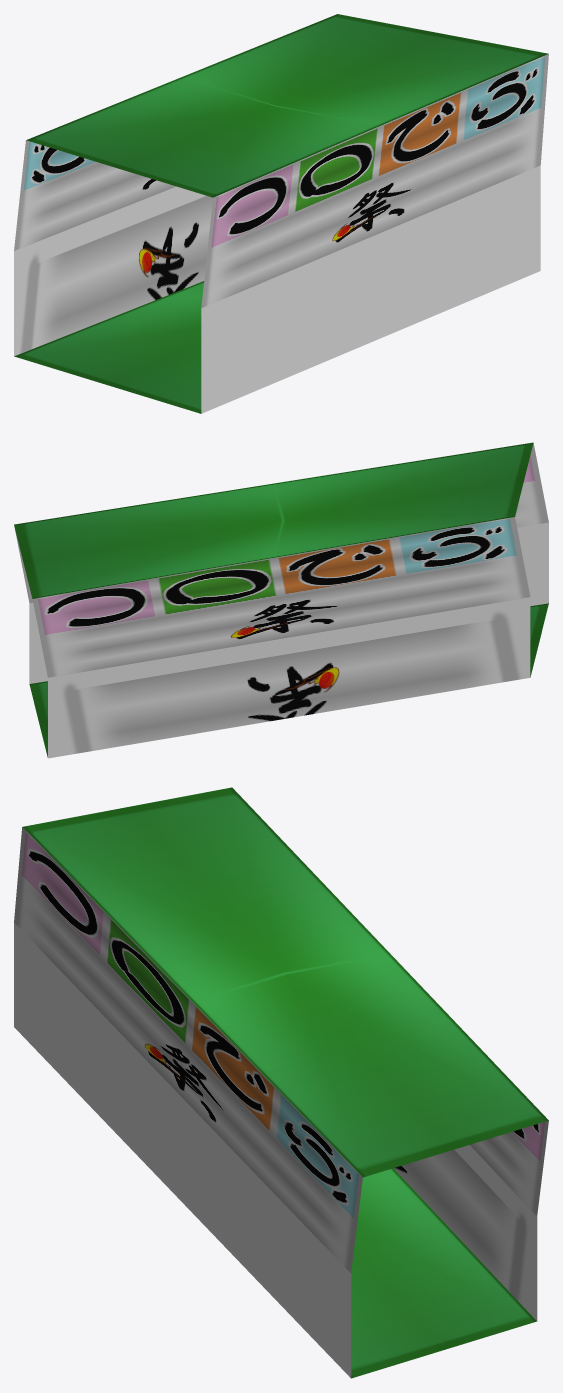
Rendered from CourseSummer_Concave_8_3.fbx.
3 renders of one model, top to bottom at view 1: azimuth 30°, elevation 25°; view 2: azimuth 150°, elevation 25°; view 3: azimuth 270°, elevation 25°, orthographic. The views are drawn at different scales.
Parts seen in each view (by area): view 1: polySurface322; view 2: polySurface322; view 3: polySurface322.
Boxes of the visible parts, bbox=[...] form: polySurface322: bbox=[14, 14, 548, 413]; polySurface322: bbox=[14, 442, 548, 758]; polySurface322: bbox=[14, 787, 548, 1378].
Bounding box in the file's own units: 6 × 2.98 × 4.63.
Materials: 1 (1 with a texture image).
